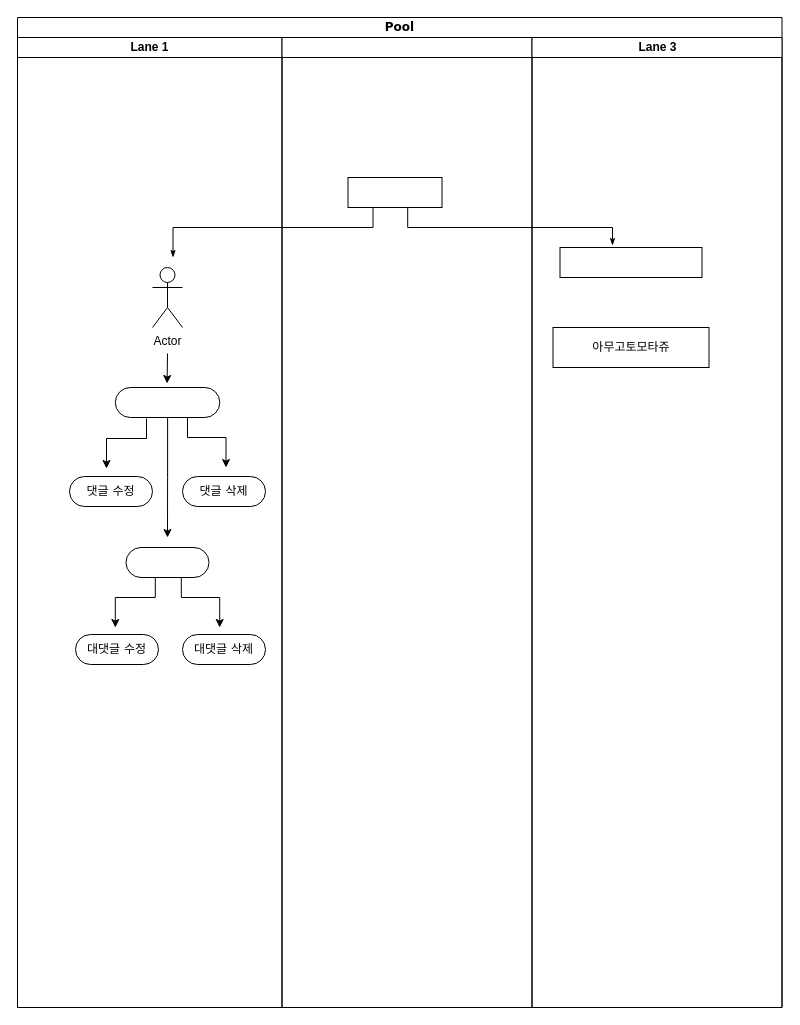
This 800x1025 diagram has some shape labels left out. Each missing label, with the box of its shape:
Lane 2: (281, 36, 532, 1008)
대댓글 작성: (125, 546, 209, 578)
댓글: (347, 176, 442, 208)
댓글 작성: (114, 386, 220, 418)
비회원: (559, 246, 702, 278)
